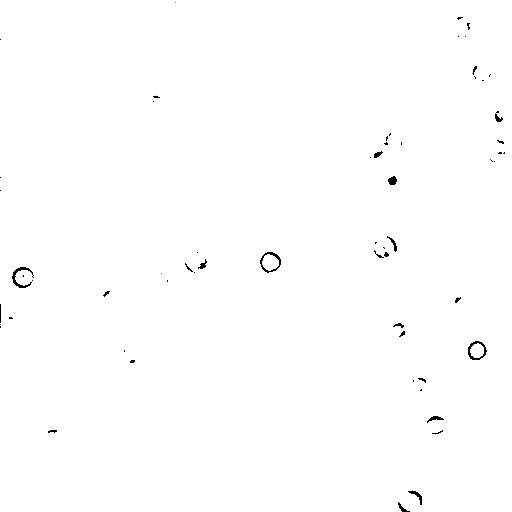micro-algae: (106, 331, 163, 384), (35, 46, 72, 87), (376, 164, 407, 197), (93, 286, 124, 319), (450, 292, 484, 322), (222, 127, 252, 159), (37, 267, 70, 296), (93, 392, 121, 426), (117, 341, 147, 372), (370, 234, 399, 261), (9, 28, 35, 56), (395, 488, 425, 512), (183, 250, 209, 276), (471, 56, 495, 84), (39, 428, 67, 452), (420, 413, 448, 437), (482, 138, 508, 163), (9, 265, 36, 289), (448, 14, 472, 40), (0, 300, 24, 326), (259, 250, 283, 274), (464, 338, 487, 362), (26, 313, 44, 340), (365, 138, 387, 159), (384, 127, 404, 150), (439, 282, 460, 303), (408, 374, 432, 392), (383, 322, 406, 340), (156, 267, 175, 285), (493, 109, 505, 124), (158, 0, 182, 6)
